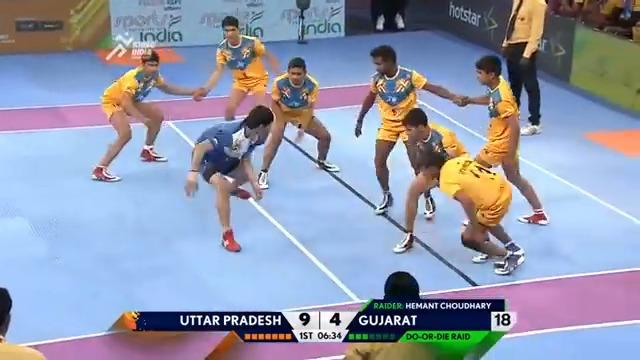Player: (393, 107, 525, 274), (354, 44, 466, 218), (452, 54, 549, 225), (90, 47, 205, 182), (256, 56, 340, 189), (192, 15, 279, 121)
Raider: (183, 104, 275, 252)
referee: (343, 270, 439, 359), (500, 0, 549, 136), (369, 0, 408, 32)
